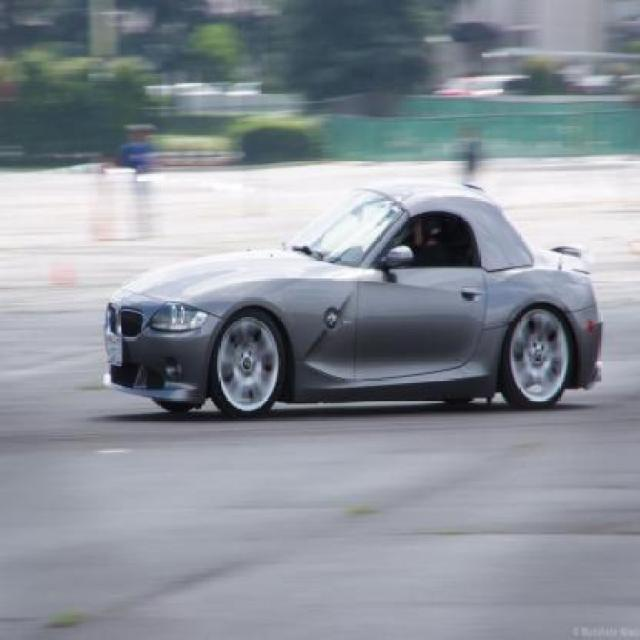License-Plates: (104, 333, 124, 367)
